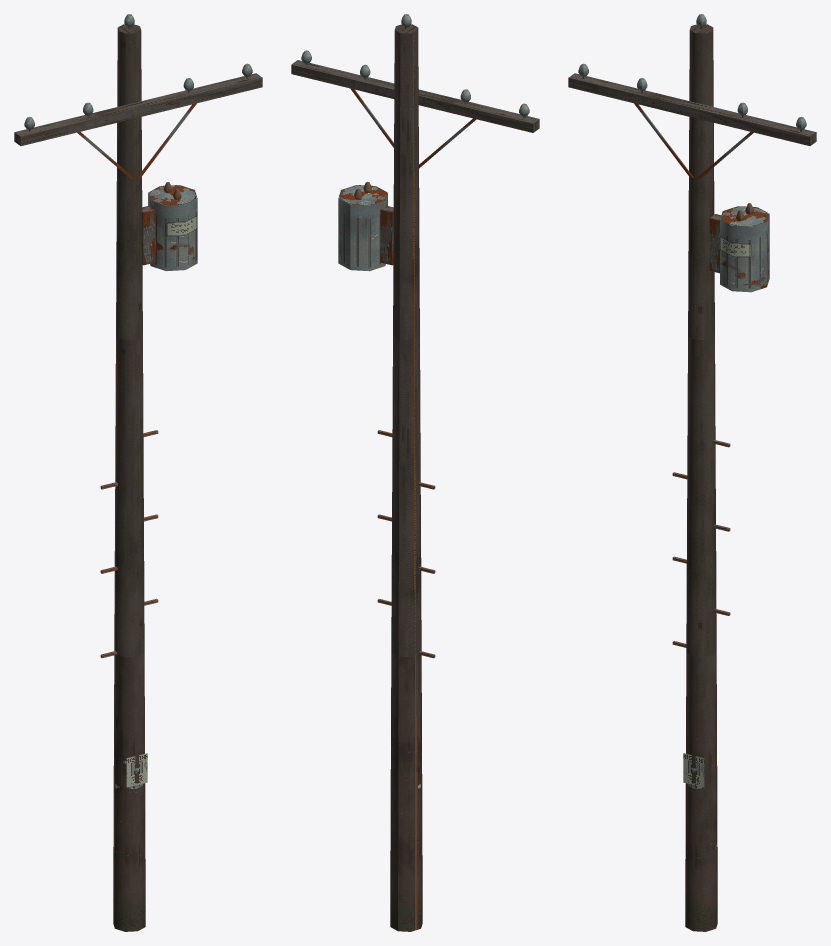
Rendered from utility_pole.glb.
3 renders of one model, left to right at view 1: azimuth 30°, elevation 25°; view 2: azimuth 150°, elevation 25°; view 3: azimuth 330°, elevation 25°, orthographic.
Parts seen in each view (by area): view 1: utility_pole; view 2: utility_pole; view 3: utility_pole.
Boxes of the visible parts, x1,y1,x2,y2 form: utility_pole: (14,14,262,931); utility_pole: (291,14,539,931); utility_pole: (568,14,816,931).
Bounding box in the file's own units: 2.4 × 8.63 × 0.44.
1 material, 1 textured.
